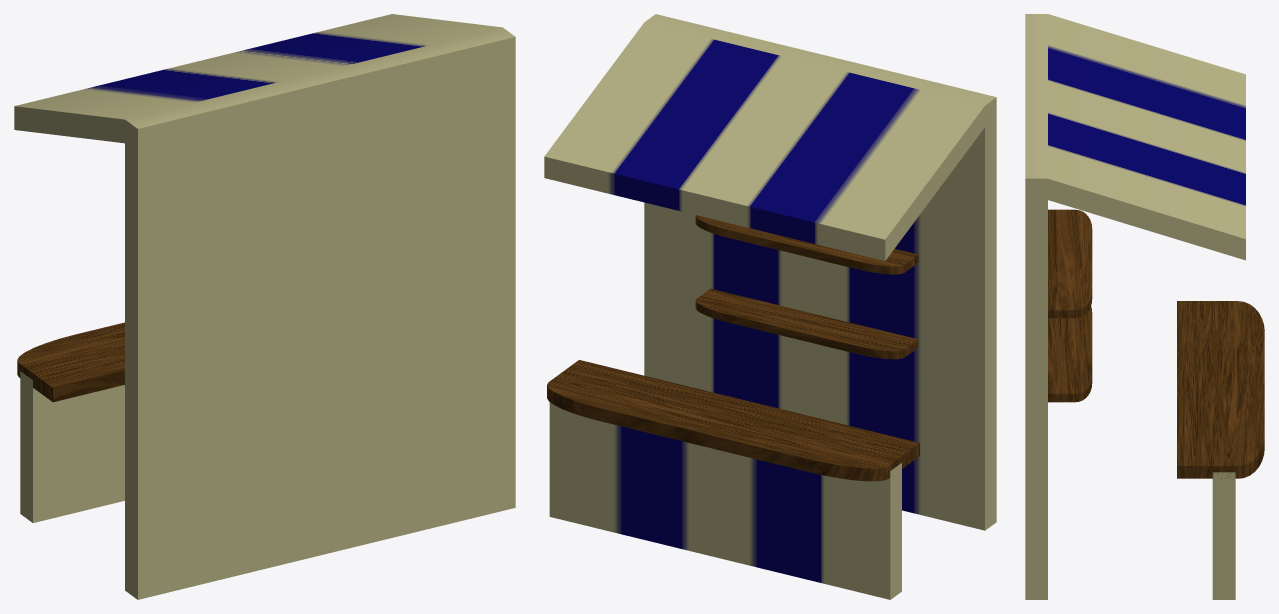
Rendered from stanek2.fbx.
The picture shows the model from 3 angles, left to right: view 1: azimuth 30°, elevation 25°; view 2: azimuth 150°, elevation 25°; view 3: azimuth 270°, elevation 25°; orthographic projection. The views are drawn at different scales.
Parts seen in each view (by area): view 1: Cube.011; view 2: Cube.011; view 3: Cube.011.
Part boxes in pixels (<box>): Cube.011: <box>14,14,515,599</box>; Cube.011: <box>544,14,996,599</box>; Cube.011: <box>1025,14,1264,599</box>.
Size of the model in its own units: 378 by 450 by 232.
1 material, 1 textured.
